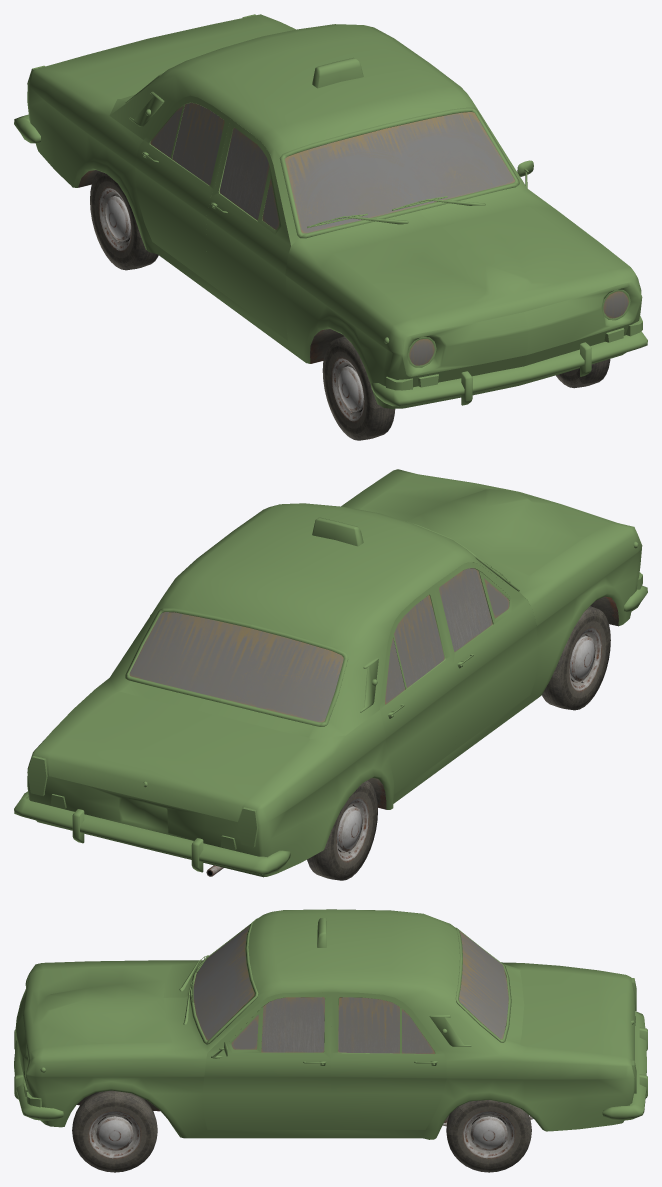
File: taxi_wheels_fine.FBX
3 renders of one model, top to bottom at view 1: azimuth 30°, elevation 25°; view 2: azimuth 150°, elevation 25°; view 3: azimuth 270°, elevation 25°, orthographic. The views are drawn at different scales.
Visible parts, largest first — view 1: body, door_fr, door_rr, bumper_f, wheel_fr, wheel_rr, taxi_sign, wheelcap_fr, wheelcap_rr, wheel_fl; view 2: body, door_fr, door_rr, bumper_r, wheel_fr, wheel_rr, taxi_sign, wheelcap_fr, wheelcap_rr; view 3: body, door_fl, door_rl, wheel_fl, wheel_rl, bumper_r, bumper_f, wheelcap_rl, wheelcap_fl.
Boxes of the visible parts, x1=… form: body: x1=27, y1=14, x2=642, y2=408; door_fr: x1=206, y1=118, x2=290, y2=340; door_rr: x1=134, y1=95, x2=230, y2=284; bumper_f: x1=371, y1=331, x2=647, y2=406; wheel_fr: x1=322, y1=336, x2=395, y2=440; wheel_rr: x1=90, y1=171, x2=158, y2=270; taxi_sign: x1=312, y1=57, x2=363, y2=88; wheelcap_fr: x1=338, y1=366, x2=363, y2=411; wheelcap_rr: x1=105, y1=196, x2=130, y2=241; wheel_fl: x1=556, y1=359, x2=610, y2=388; body: x1=27, y1=469, x2=642, y2=877; door_fr: x1=433, y1=562, x2=538, y2=750; door_rr: x1=380, y1=585, x2=458, y2=793; bumper_r: x1=14, y1=791, x2=290, y2=874; wheel_fr: x1=542, y1=606, x2=610, y2=710; wheel_rr: x1=307, y1=780, x2=377, y2=880; taxi_sign: x1=312, y1=517, x2=363, y2=546; wheelcap_fr: x1=570, y1=636, x2=595, y2=681; wheelcap_rr: x1=337, y1=806, x2=362, y2=851; body: x1=15, y1=909, x2=636, y2=1139; door_fl: x1=202, y1=992, x2=331, y2=1129; door_rl: x1=331, y1=992, x2=446, y2=1129; wheel_fl: x1=72, y1=1090, x2=157, y2=1172; wheel_rl: x1=446, y1=1100, x2=531, y2=1172; bumper_r: x1=602, y1=1011, x2=647, y2=1120; bumper_f: x1=14, y1=1029, x2=63, y2=1120; wheelcap_rl: x1=470, y1=1116, x2=507, y2=1150; wheelcap_fl: x1=96, y1=1116, x2=133, y2=1150.
Bounding box in the file's own units: 72.65 × 65.49 × 186.
